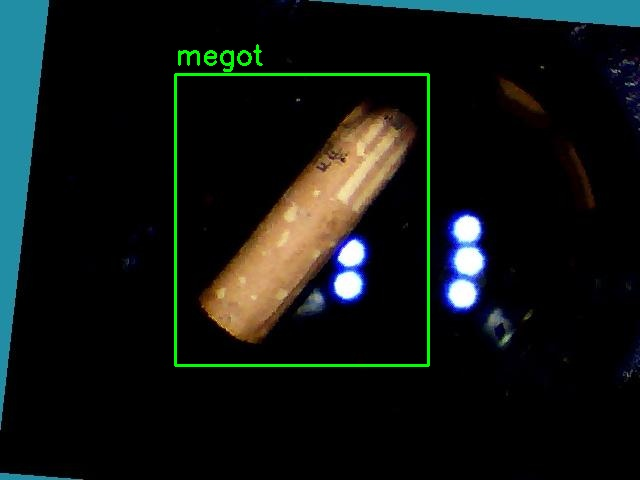megot: (175, 74, 428, 365)
